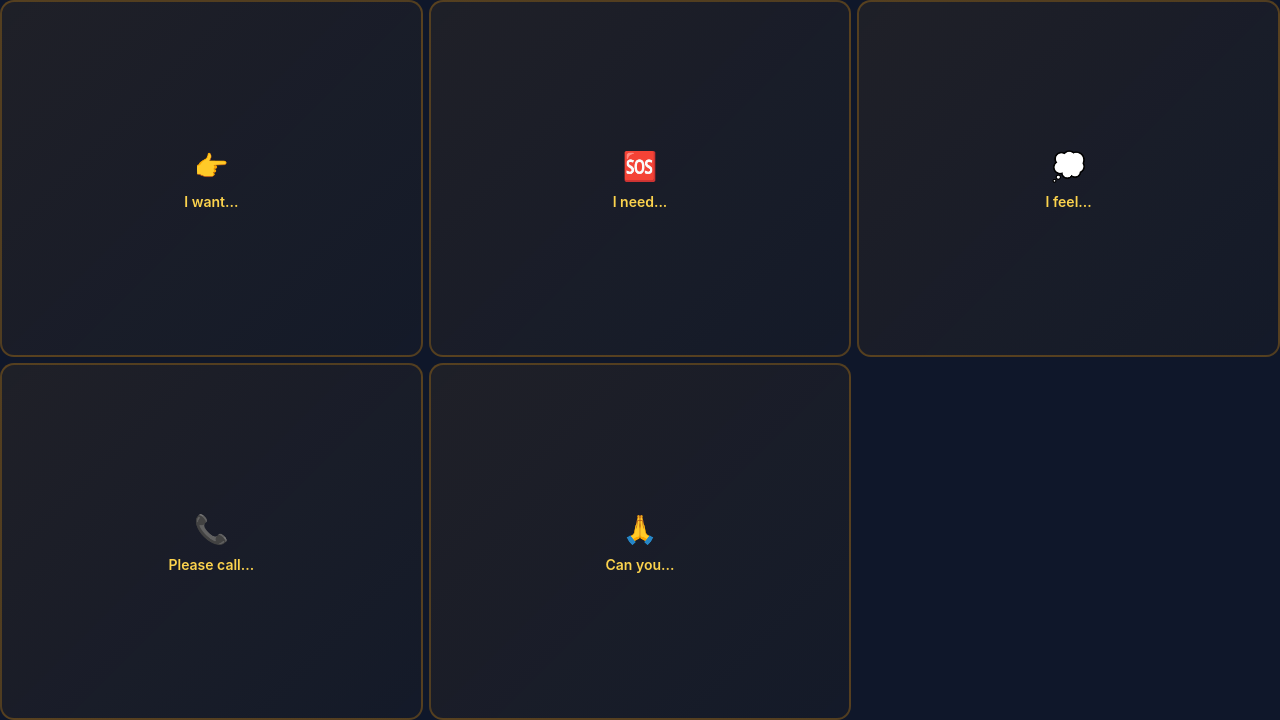
Test: PhraseBuilder › shows sub-phrases when a starter is tapped
The width and height of the screenshot is (1280, 720).
Click the text "I need..." at (640, 202), box x1=613 y1=191 x2=667 y2=212
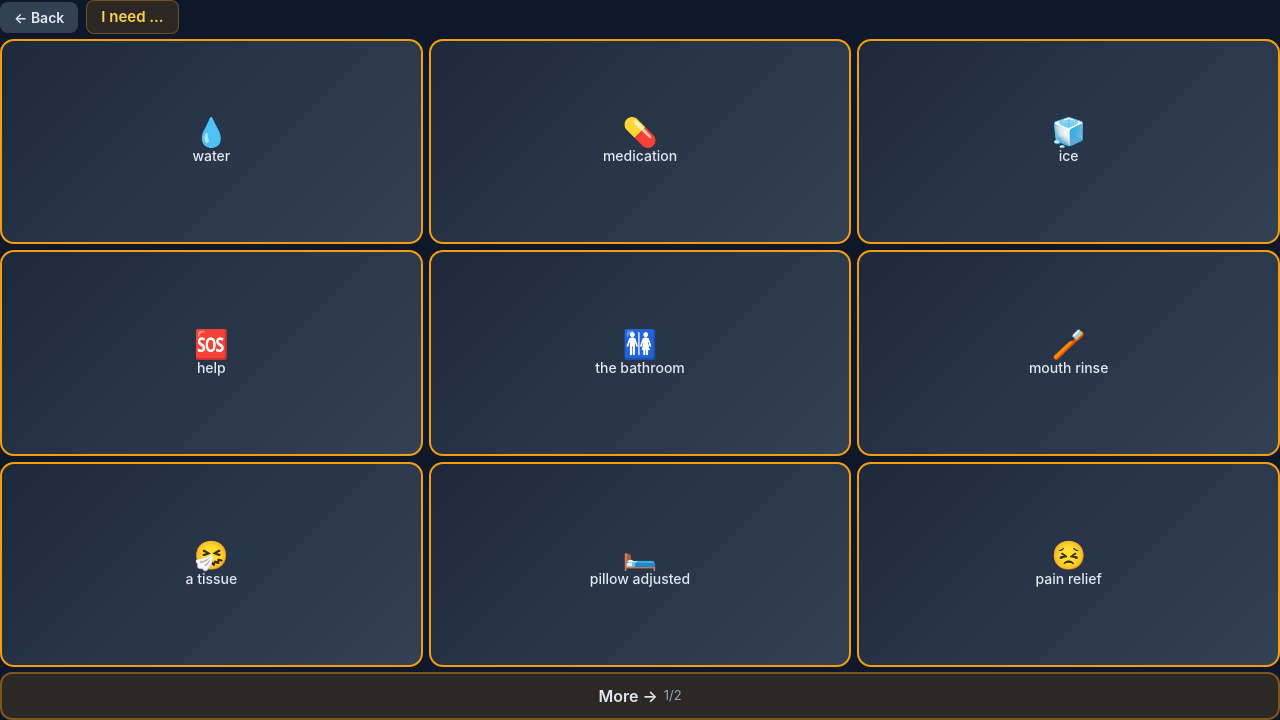
Expected: the text "I need ..." is shown, x1=86 y1=0 x2=179 y2=34
Expected: the button "← Back" is shown, x1=0 y1=2 x2=78 y2=32
